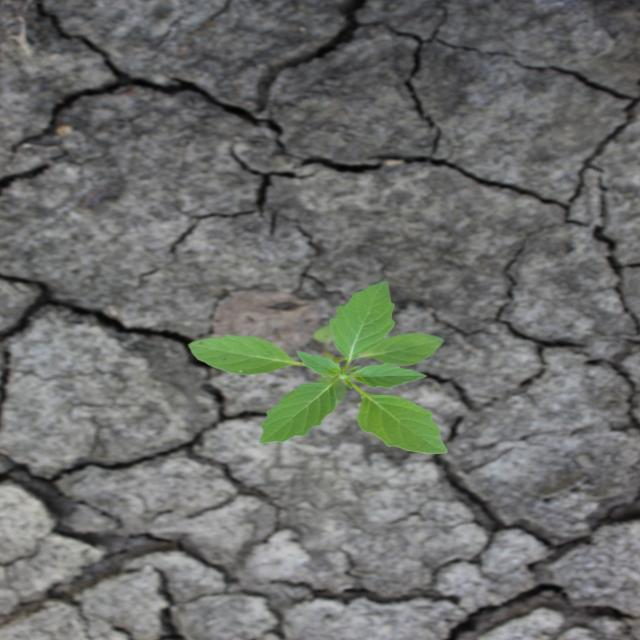CutleafGroundcherry: (185, 278, 454, 458)
